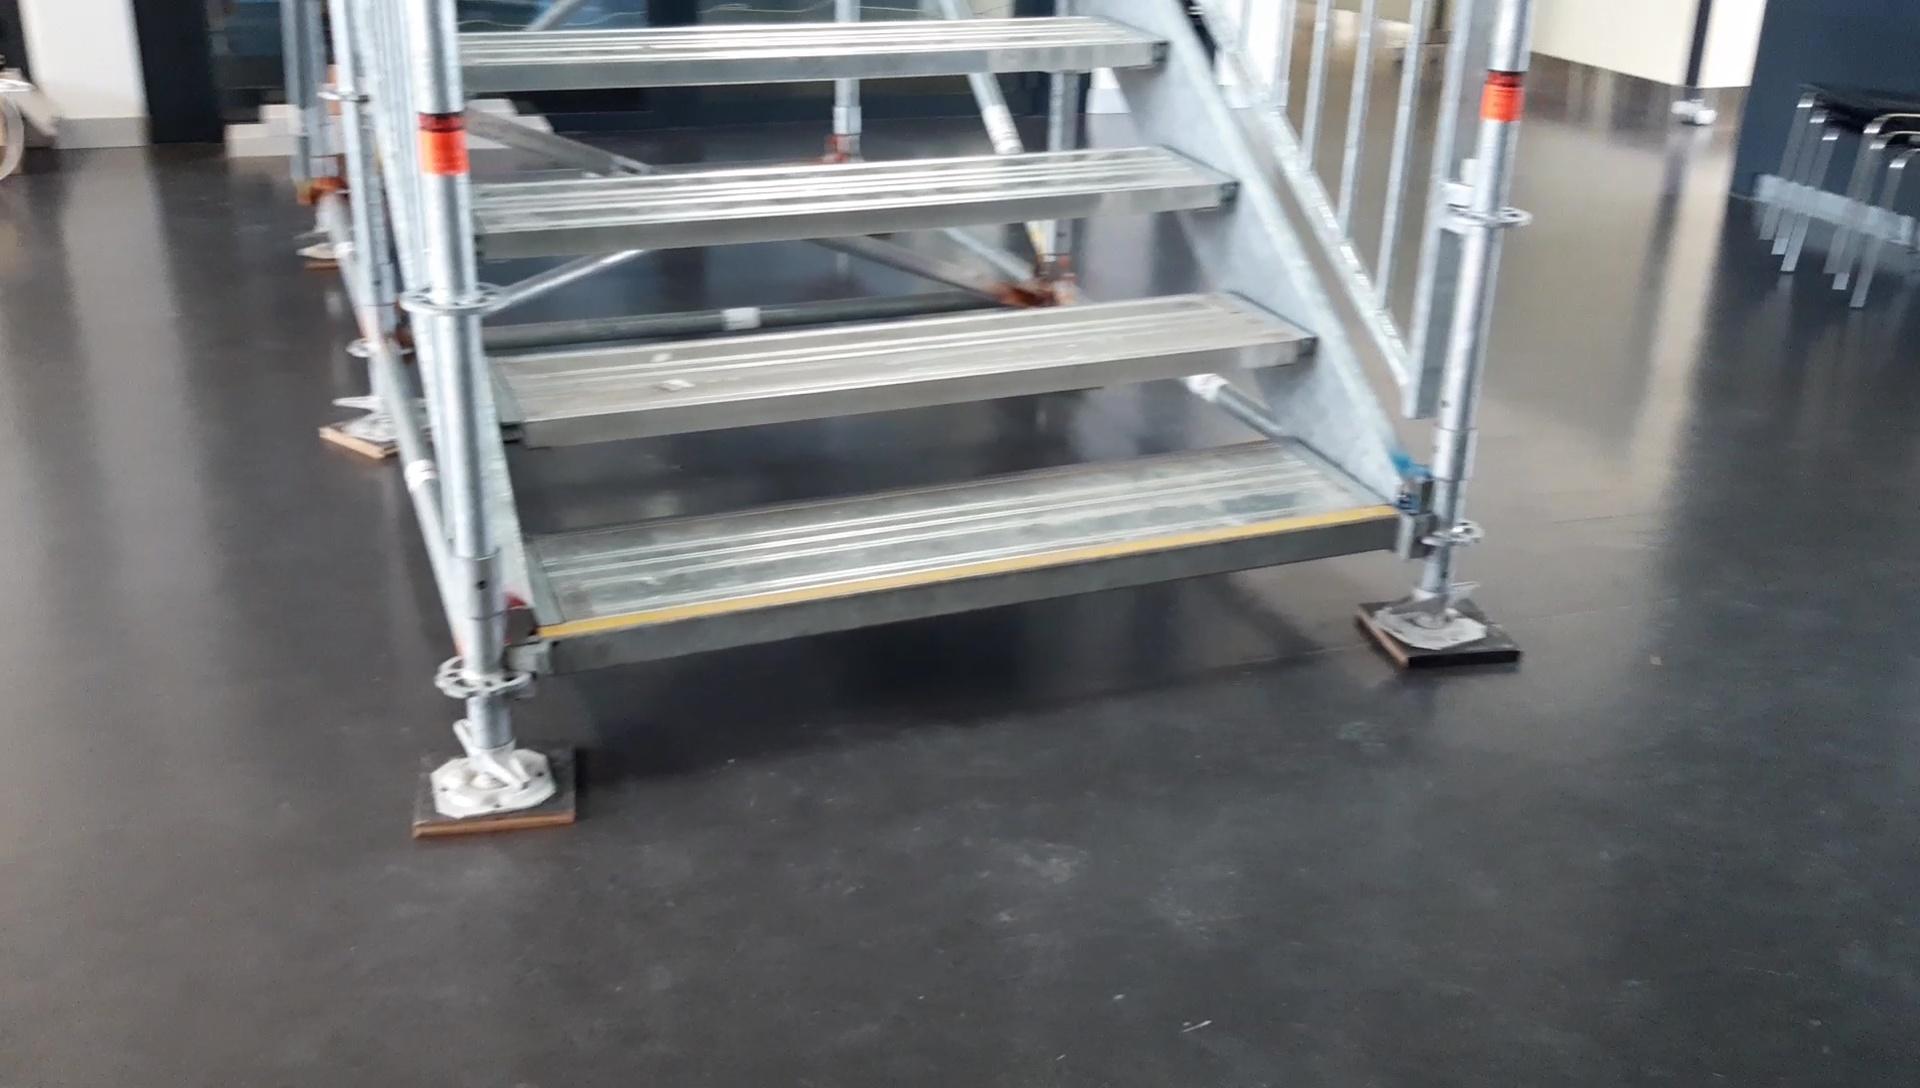edge: (549, 508, 1403, 670), (502, 334, 1315, 444), (471, 181, 1245, 260), (458, 40, 1175, 90)
stairs: (415, 0, 1524, 831)
